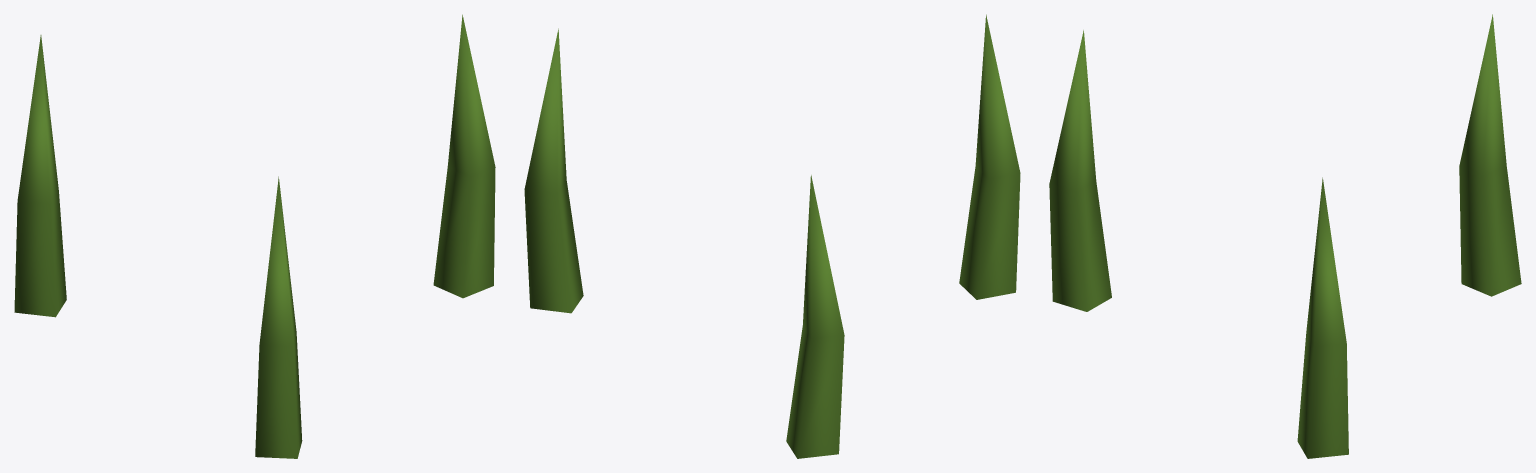
Rendered from corn_growing.fbx.
The picture shows the model from 3 angles, left to right: view 1: azimuth 30°, elevation 25°; view 2: azimuth 150°, elevation 25°; view 3: azimuth 270°, elevation 25°; orthographic projection.
Visible parts, largest first — view 1: Cone; view 2: Cone; view 3: Cone.
Part boxes in pixels (box(x1,y1,x2,y2)): Cone: box(14, 14, 495, 458); Cone: box(524, 14, 1020, 458); Cone: box(1049, 14, 1521, 458).
Size of the model in its own units: 47.77 by 31.62 by 50.02.
